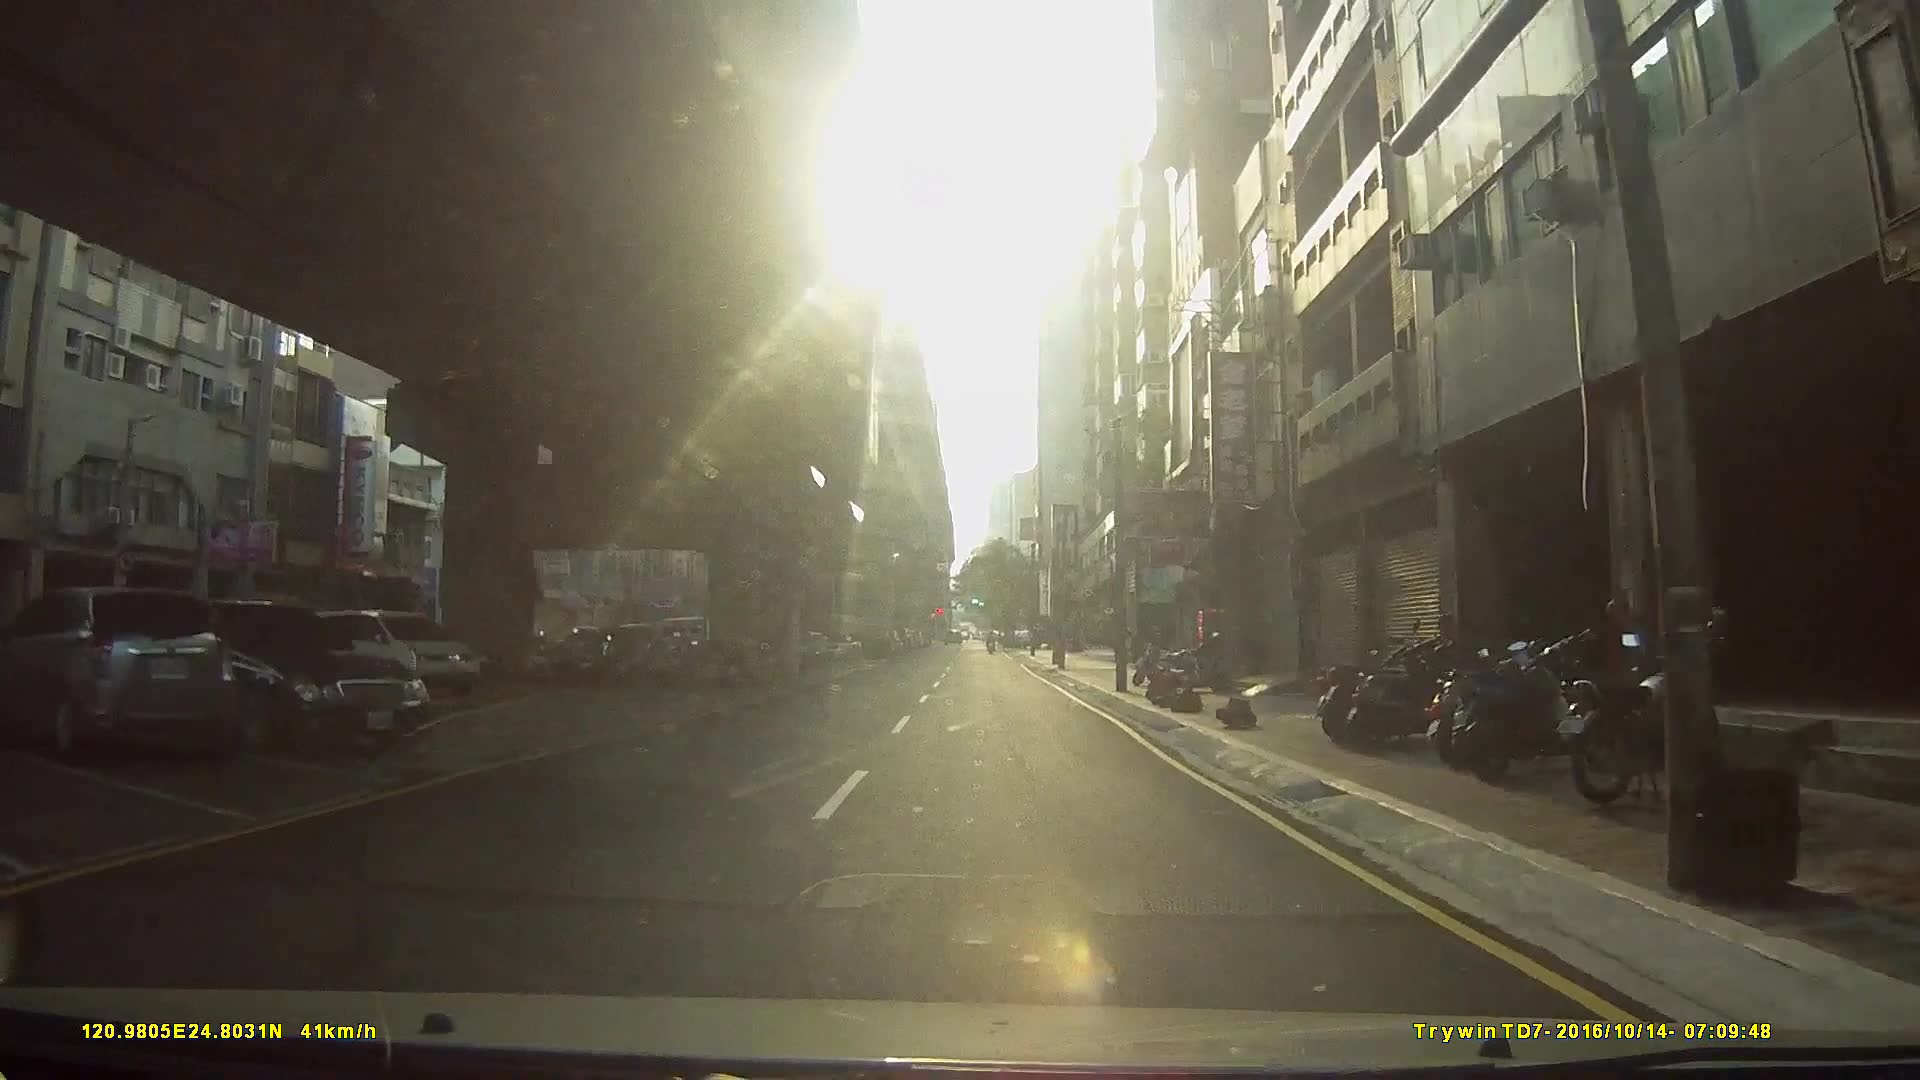vehicle: (127, 595, 425, 752), (8, 584, 233, 764), (309, 605, 476, 694)
